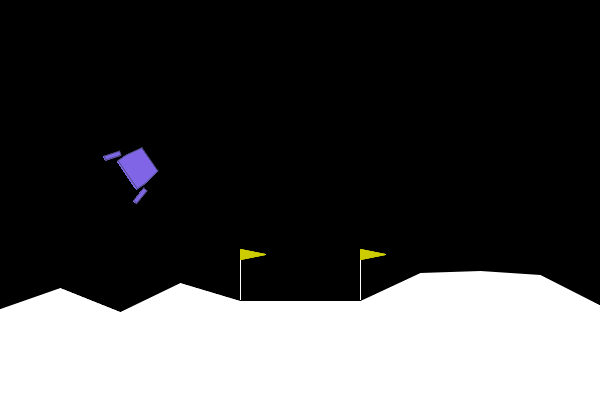lander: (101, 134, 168, 206)
